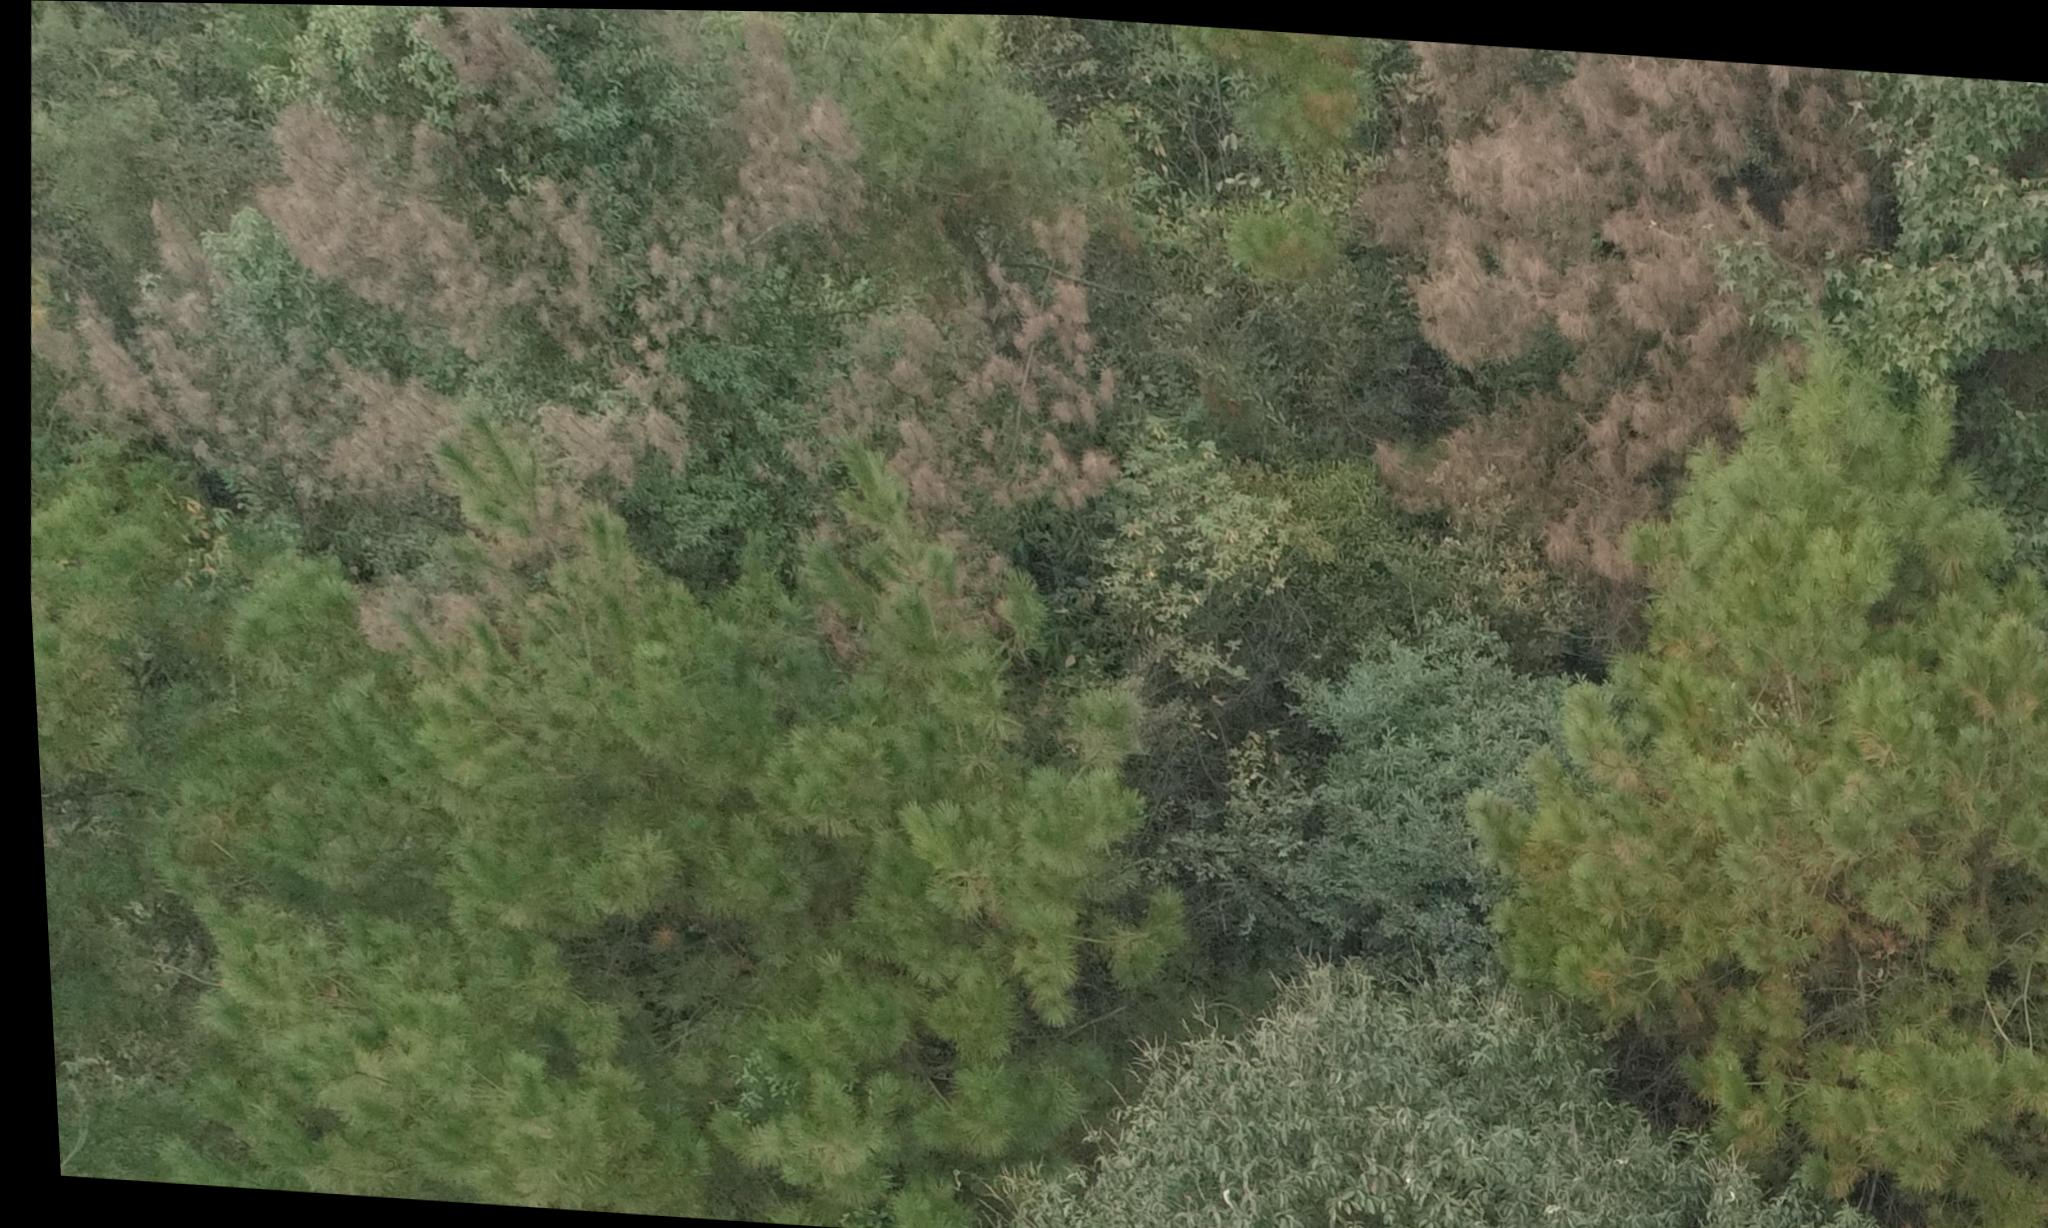heavy: (1364, 42, 1905, 561), (39, 126, 468, 500), (842, 221, 1145, 575), (501, 232, 709, 509), (387, 4, 620, 134), (728, 61, 855, 237)
light: (1479, 618, 2048, 1197)
